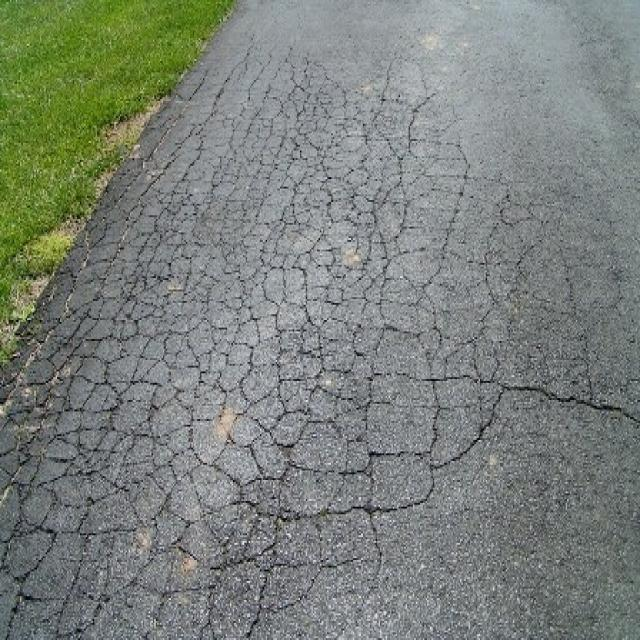Drain Hole: (87, 221, 639, 640), (180, 59, 577, 238)
